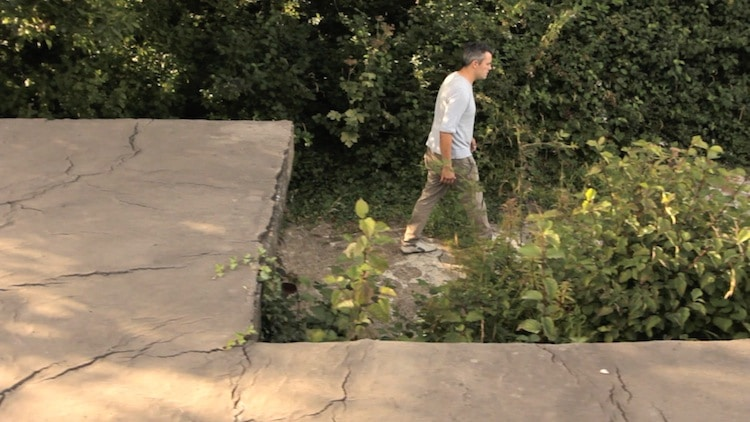Person: (395, 43, 499, 254)
